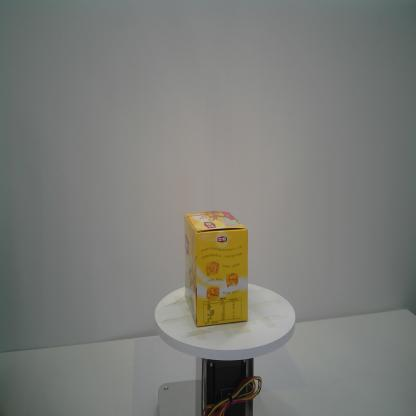Instant Drink: (183, 209, 250, 330)
